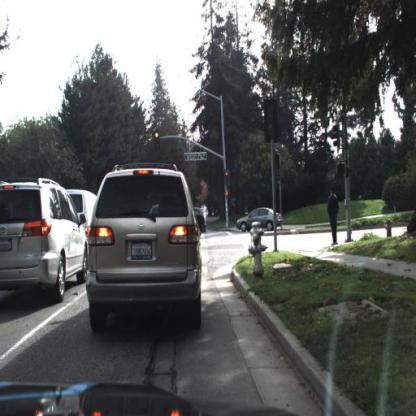car: (85, 163, 205, 333), (1, 178, 88, 303), (72, 183, 98, 242), (235, 206, 286, 234)
pedestrian: (328, 187, 338, 249)
trafficLight-Red: (154, 131, 162, 152), (224, 170, 230, 189)
